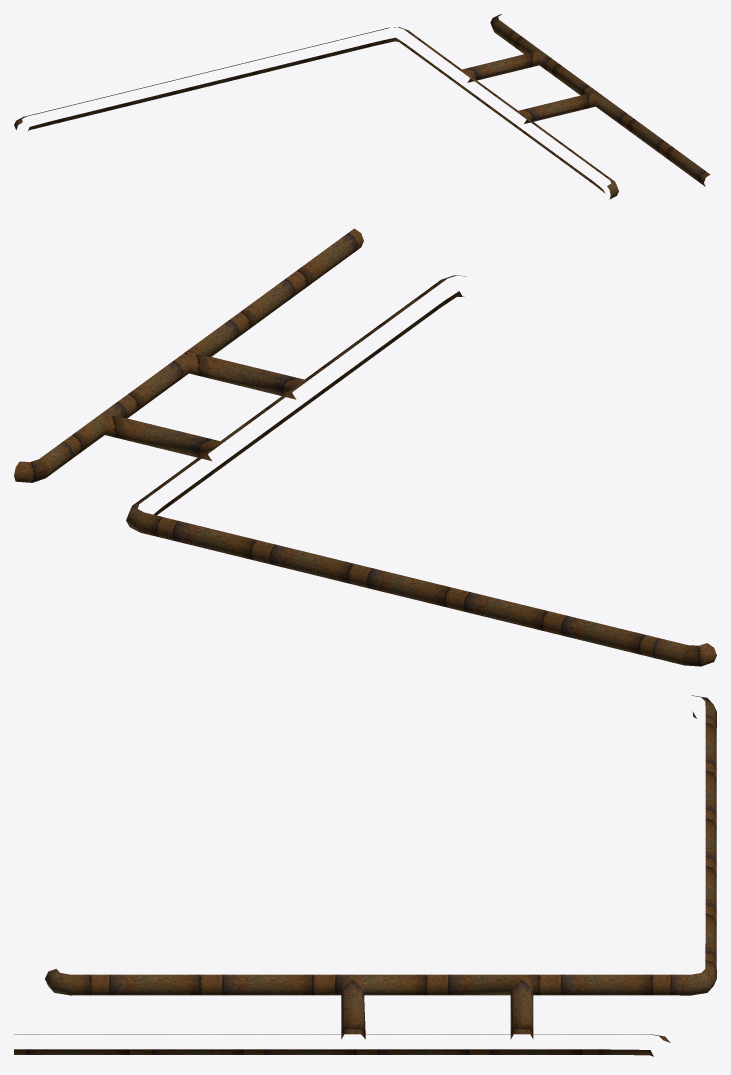
File: ControlTowerInt01B_Pipes.glb
3 renders of one model, top to bottom at view 1: azimuth 30°, elevation 25°; view 2: azimuth 150°, elevation 25°; view 3: azimuth 270°, elevation 25°, orthographic. The views are drawn at different scales.
Visible parts, largest first — view 1: CONTROLTOWERINT01B_PIPES; view 2: CONTROLTOWERINT01B_PIPES; view 3: CONTROLTOWERINT01B_PIPES.
Part boxes in pixels (left/top/right/bottom): CONTROLTOWERINT01B_PIPES: left=14, top=14, right=709, bottom=199; CONTROLTOWERINT01B_PIPES: left=14, top=228, right=716, bottom=666; CONTROLTOWERINT01B_PIPES: left=14, top=695, right=716, bottom=1056.
Bounding box in the file's own units: 14.65 × 0.4 × 12.45.
1 material, 1 textured.
